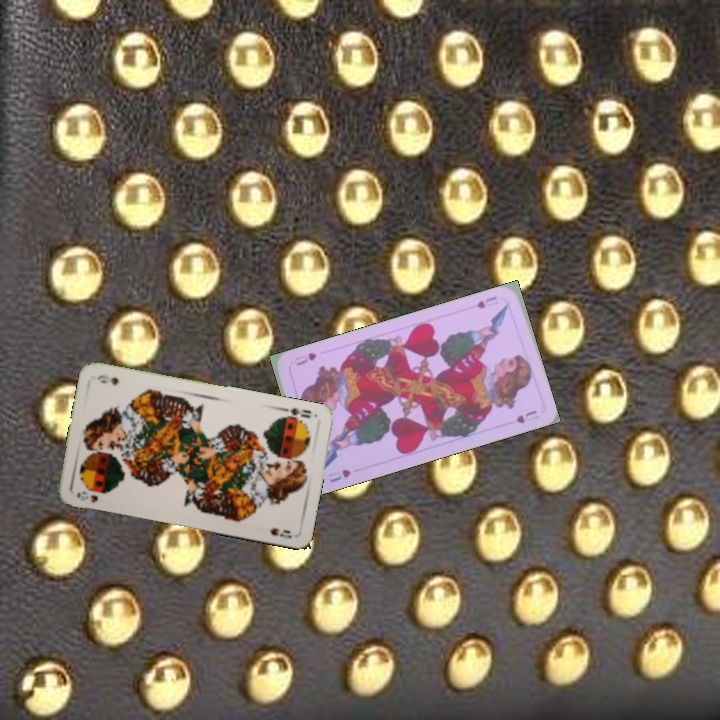HU: (323, 465, 354, 485), (473, 292, 501, 311)
SO: (278, 404, 314, 423), (73, 487, 101, 505)
